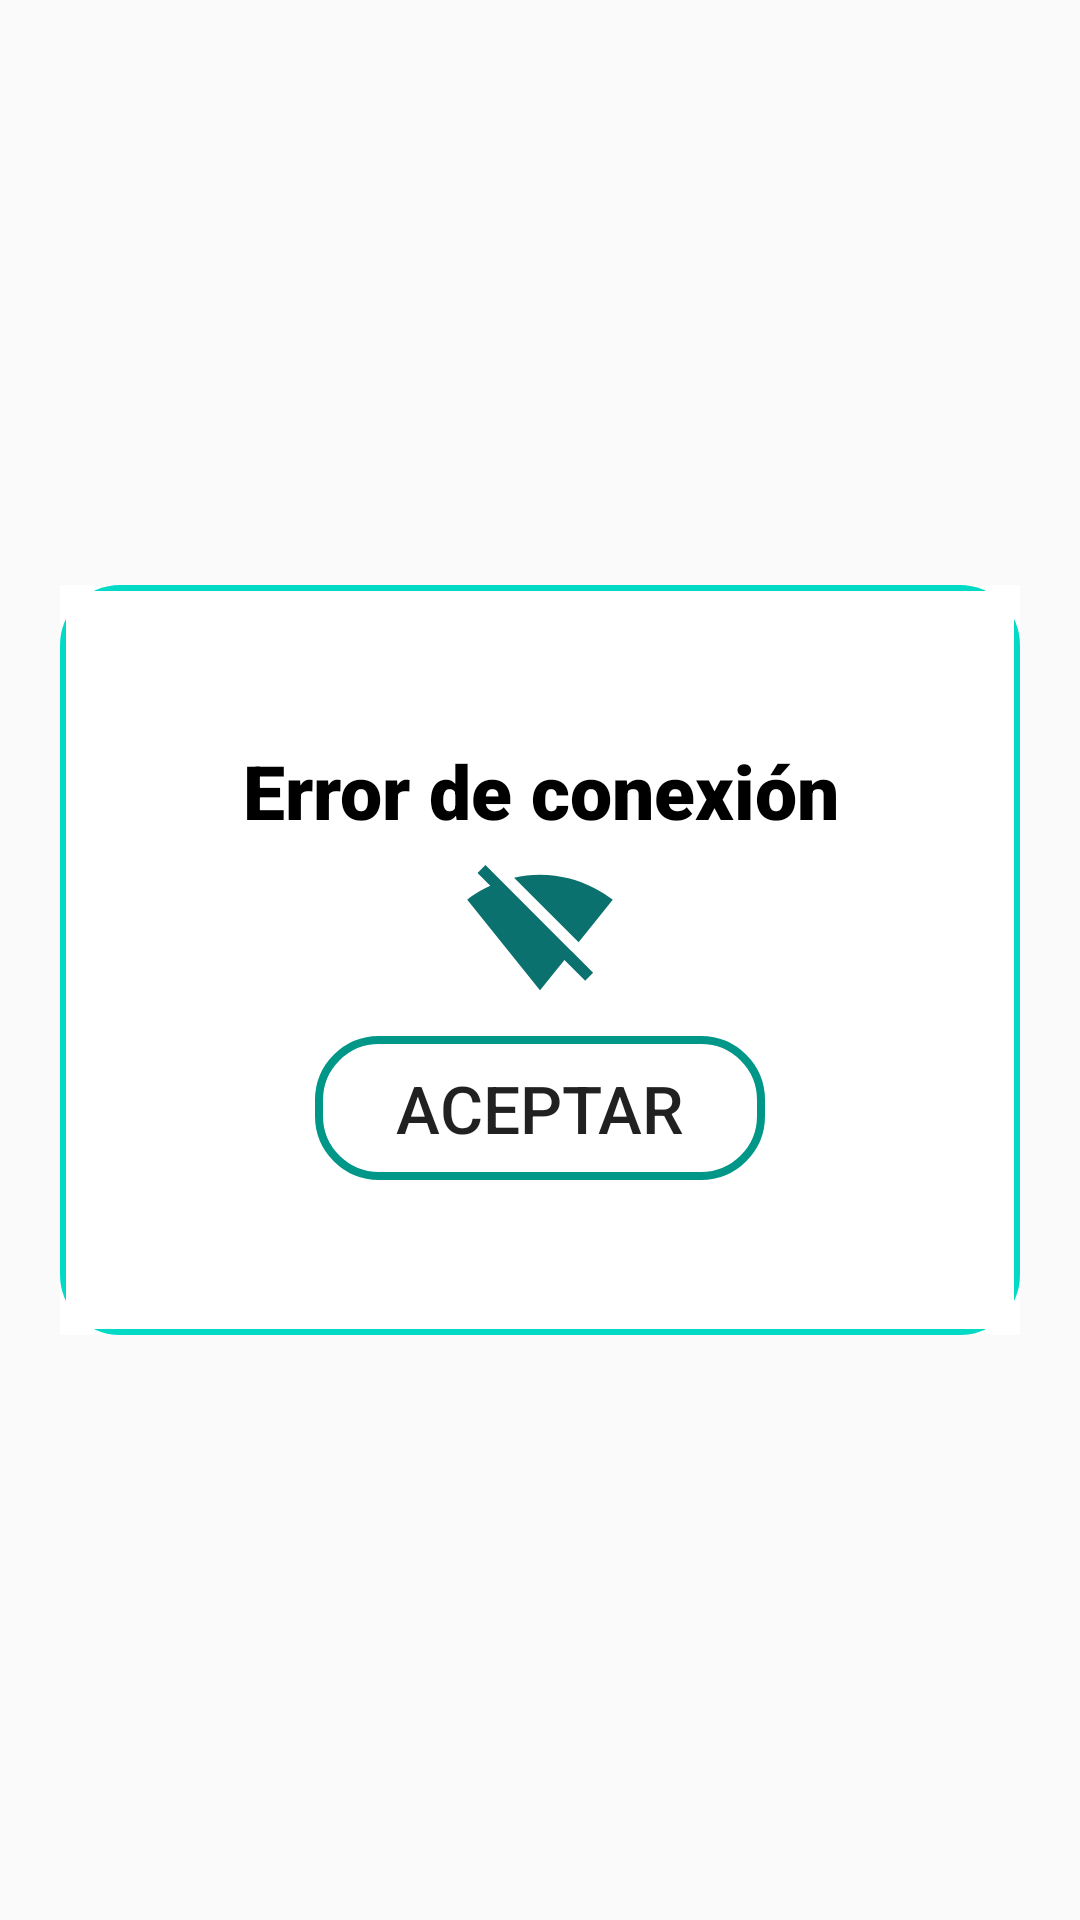

Icon click points for this 1080w x 1920h phone screenshot, format [x,y]:
signal wifi off: [540,927]
